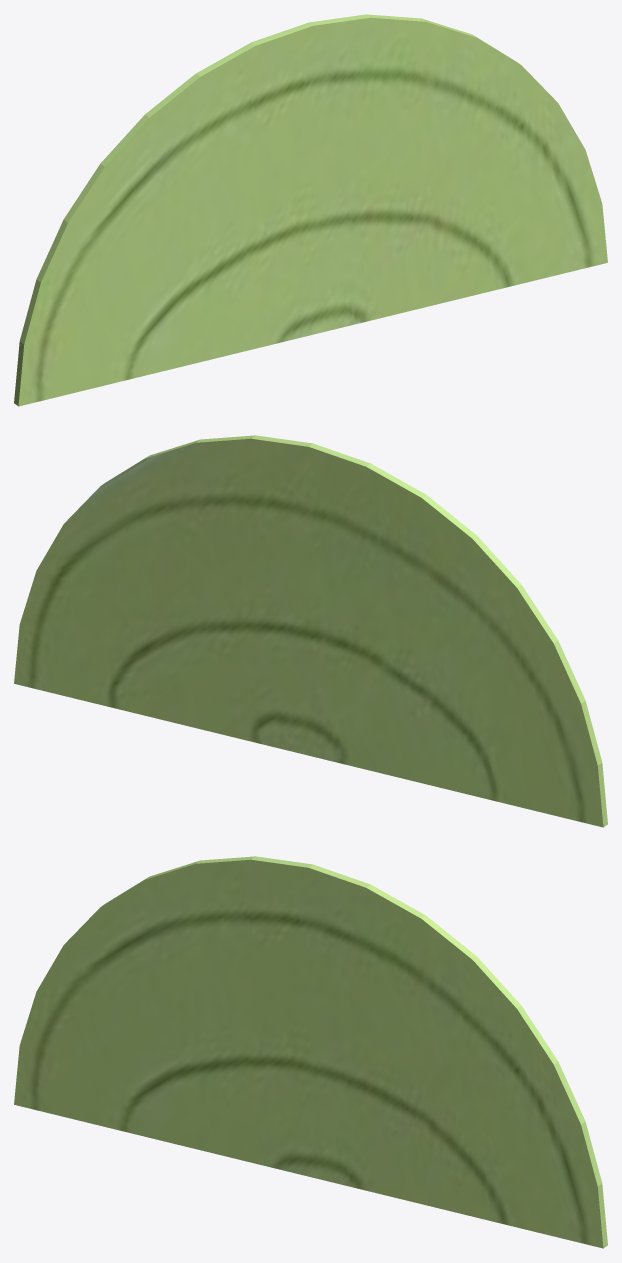
The model's file is kyabetu2.obj.
The picture shows the model from 3 angles, top to bottom: view 1: azimuth 30°, elevation 25°; view 2: azimuth 150°, elevation 25°; view 3: azimuth 330°, elevation 25°; orthographic projection.
Visible parts, largest first — view 1: 円柱; view 2: 円柱; view 3: 円柱.
Part boxes in pixels (box(x1,y1,x2,y2)): 円柱: box(14, 14, 607, 406); 円柱: box(14, 435, 607, 827); 円柱: box(14, 856, 607, 1248).
Size of the model in its own units: 4.58 by 2.29 by 0.0612.
1 material, 1 textured.
